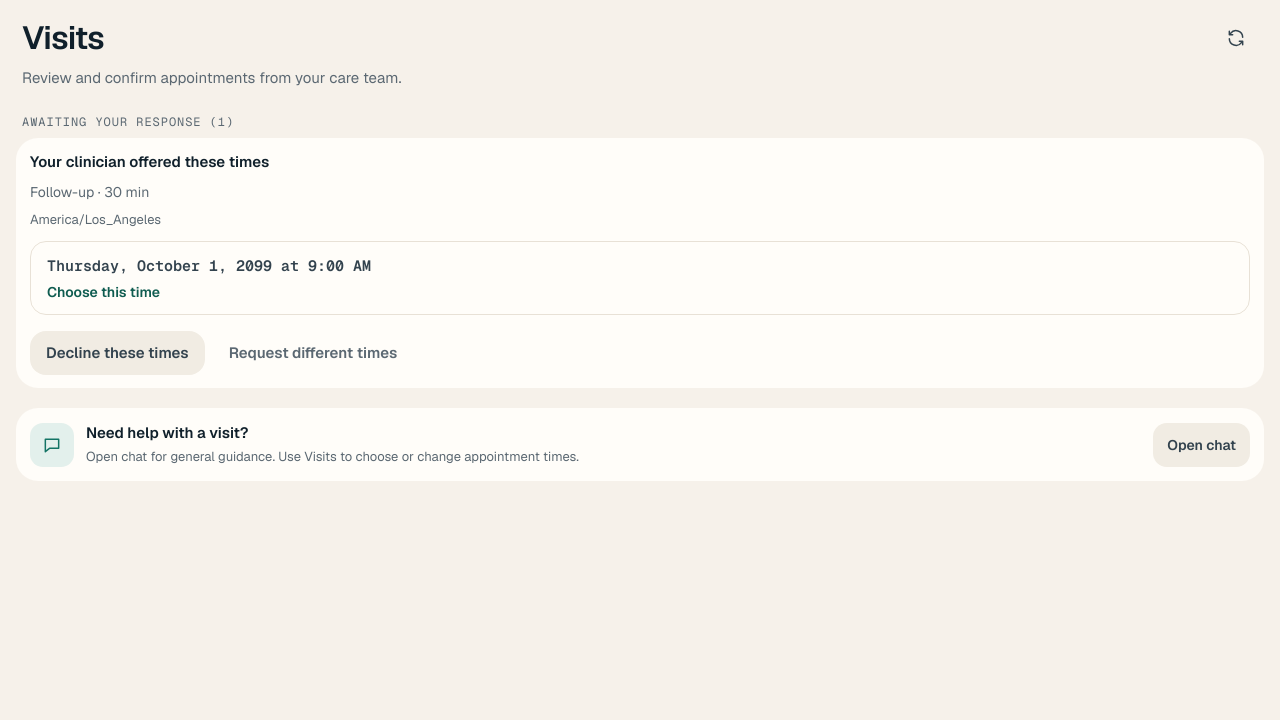
Visits recovery with the real data hook › retains the note and blocks stale actions after a failed en-US focus refresh
Click the button "Request different times" at (313, 353), box 213,331 -> 413,375
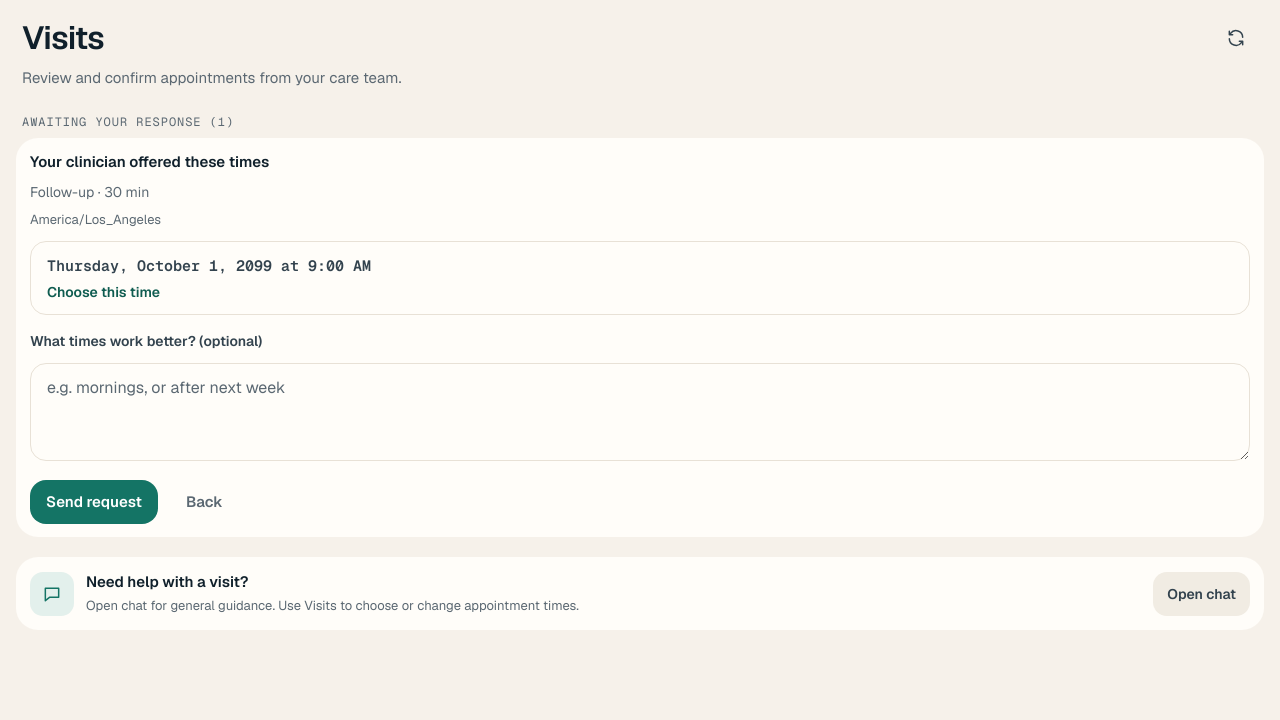
Type "Synthetic draft" into the text box at (640, 412), box 30,363 -> 1250,461
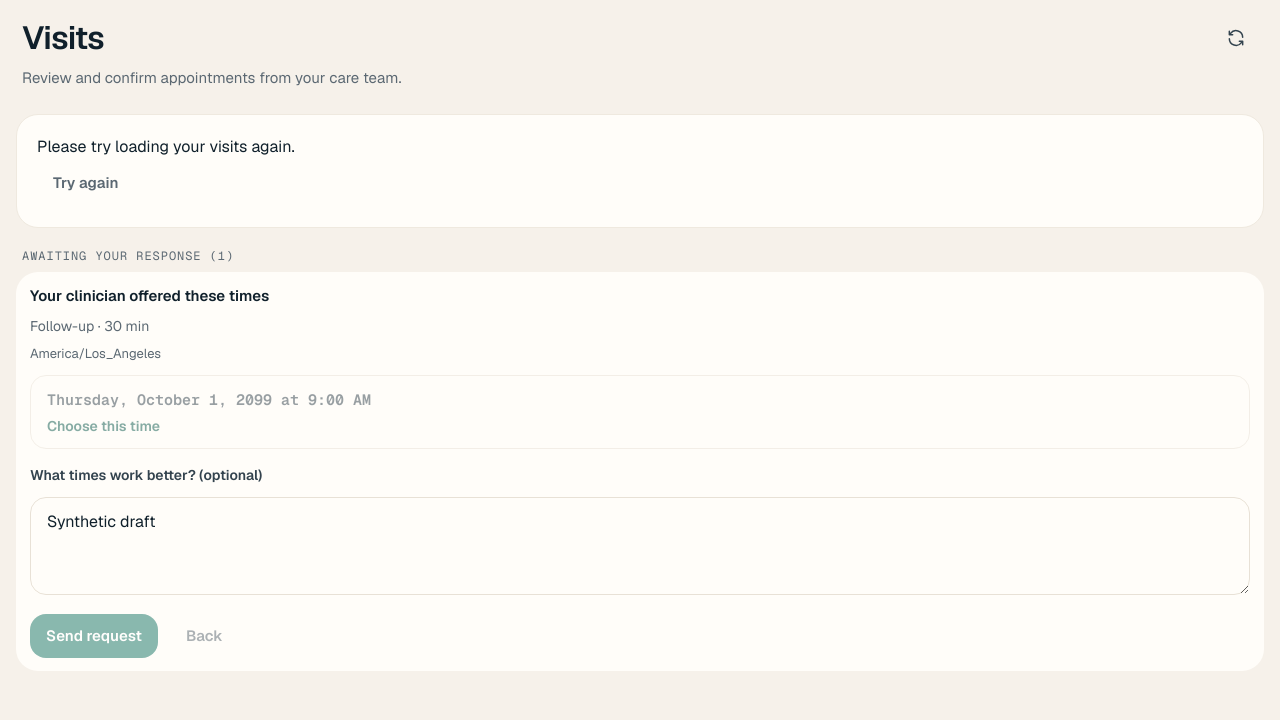
Check: the message shows "Please try loading your visits again", box 37,136 -> 295,157
Check: the button "Send request" is disabled, box 30,614 -> 158,658
Click the button "Try again" at (86, 183), box 37,159 -> 134,207
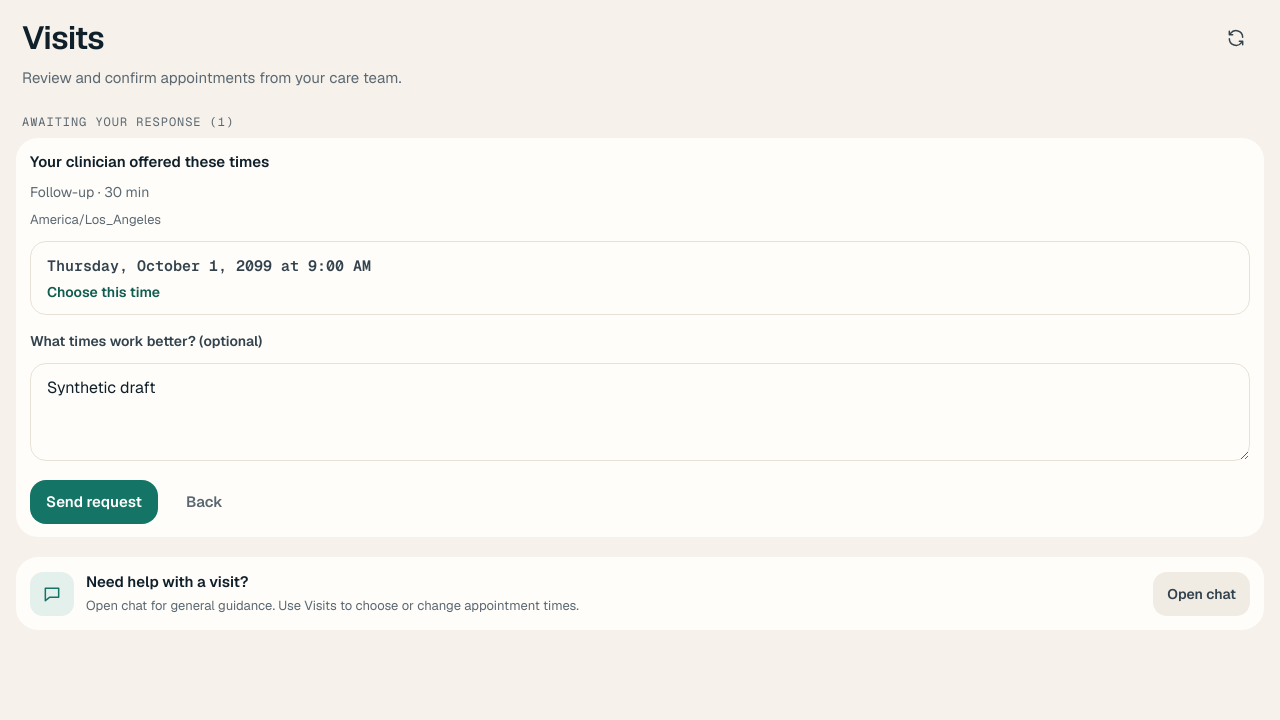
Check: the button "Send request" is enabled, box 30,480 -> 158,524
Check: the message "Please try loading your visits again." is gone
